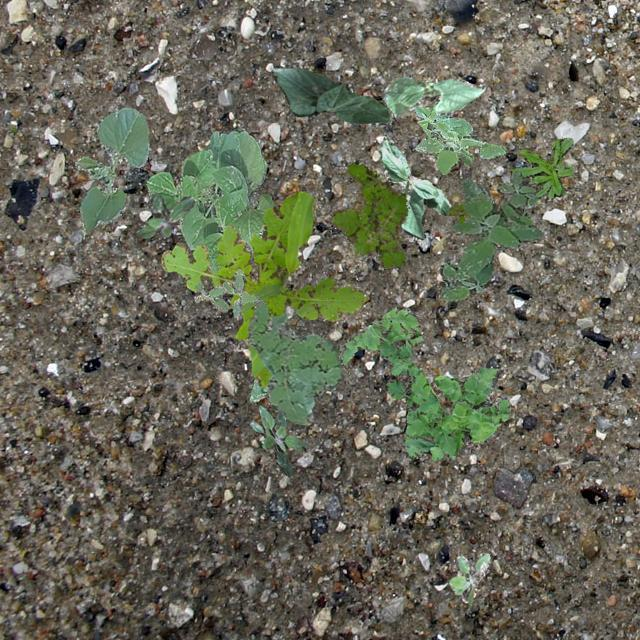crop: (144, 128, 274, 272), (74, 107, 148, 236), (380, 136, 450, 238), (272, 65, 389, 126), (382, 74, 482, 118)
weed: (160, 190, 364, 387), (336, 304, 510, 460), (438, 170, 540, 300), (246, 298, 346, 424), (332, 162, 406, 266), (412, 104, 506, 174), (248, 404, 308, 476), (510, 136, 572, 198), (194, 268, 258, 316), (134, 192, 192, 236), (448, 552, 490, 604), (446, 202, 470, 224), (248, 378, 268, 402)
